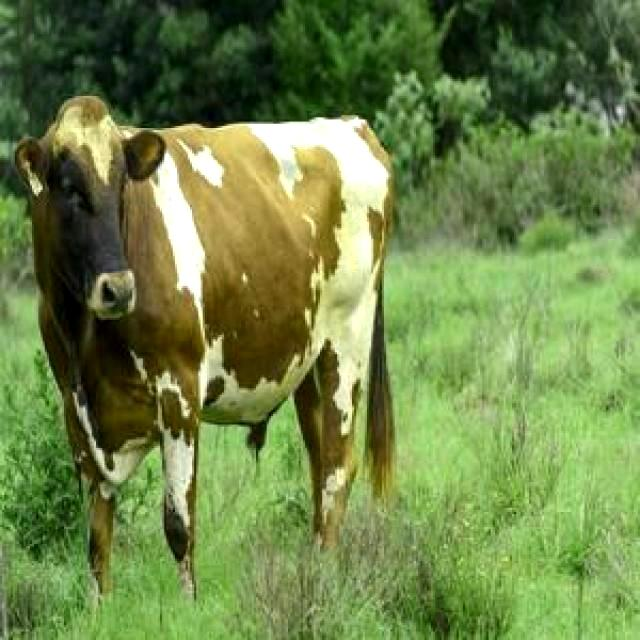COW: (16, 96, 394, 592)
